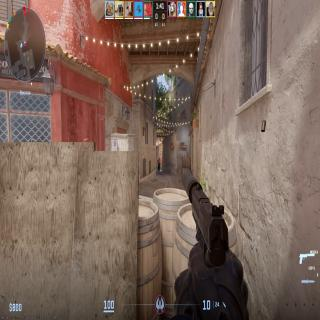T-Body: (157, 159, 160, 172), (159, 158, 161, 168)
T-Head: (158, 159, 159, 162), (159, 158, 160, 160)
